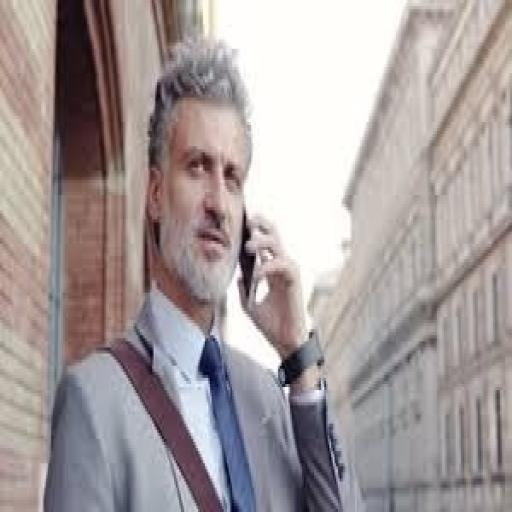calling: (41, 30, 360, 509)
